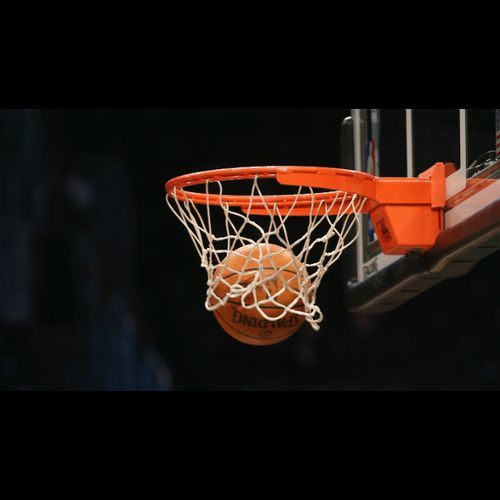ball: (214, 243, 307, 343)
